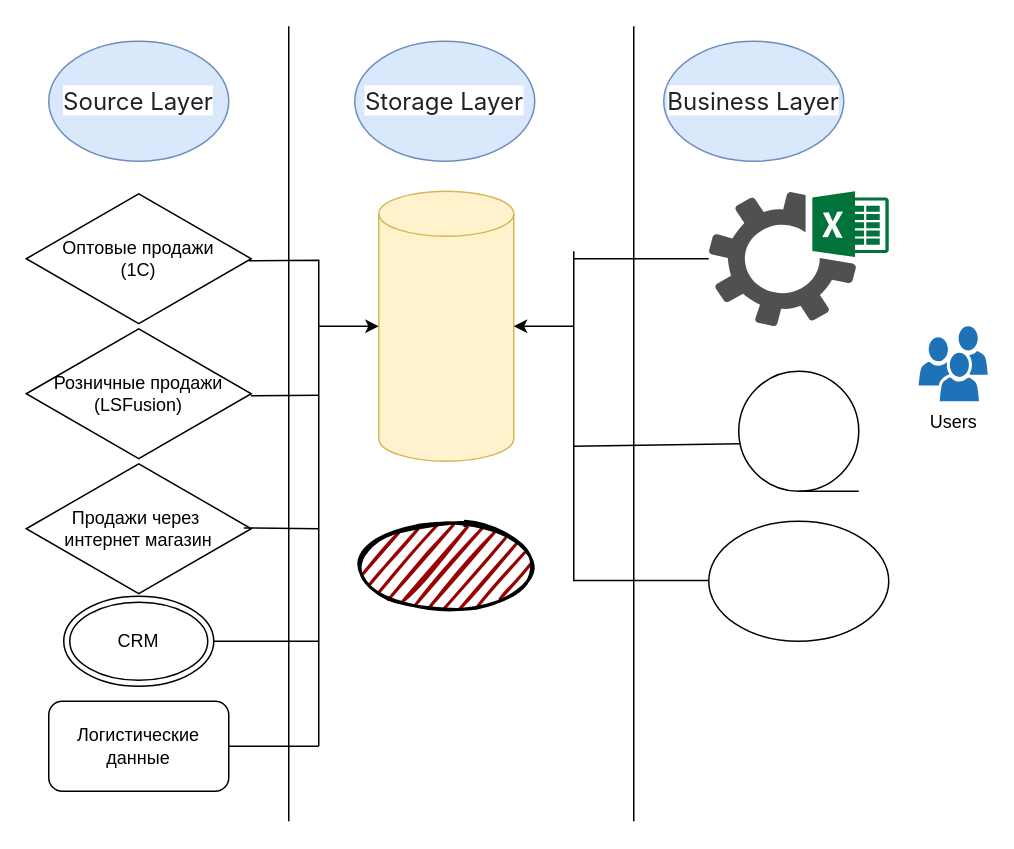
This 1014x849 diagram has some shape labels left out. Each missing label, with the centre of its shape:
"1C" belongs at pixel 798 580.
"DL" belongs at pixel 445 565.
"DW" belongs at pixel 445 325.
"Excel" belongs at pixel 798 258.
"SQL" belongs at pixel 798 430.
